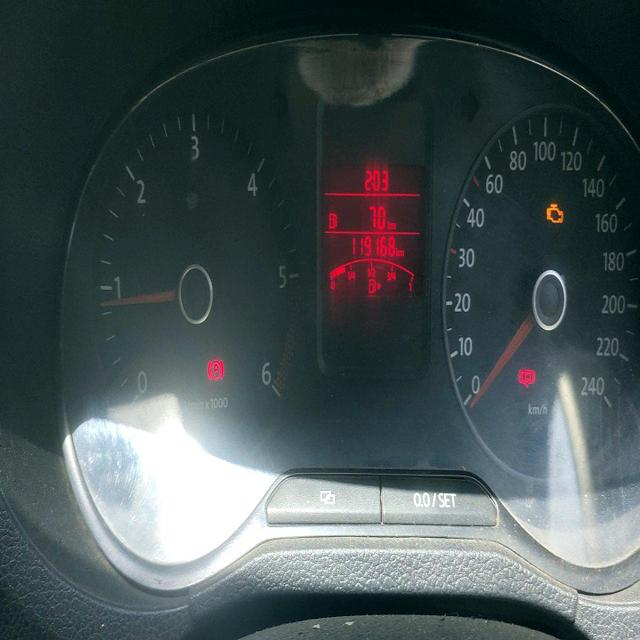odometer: (350, 233, 396, 261)
